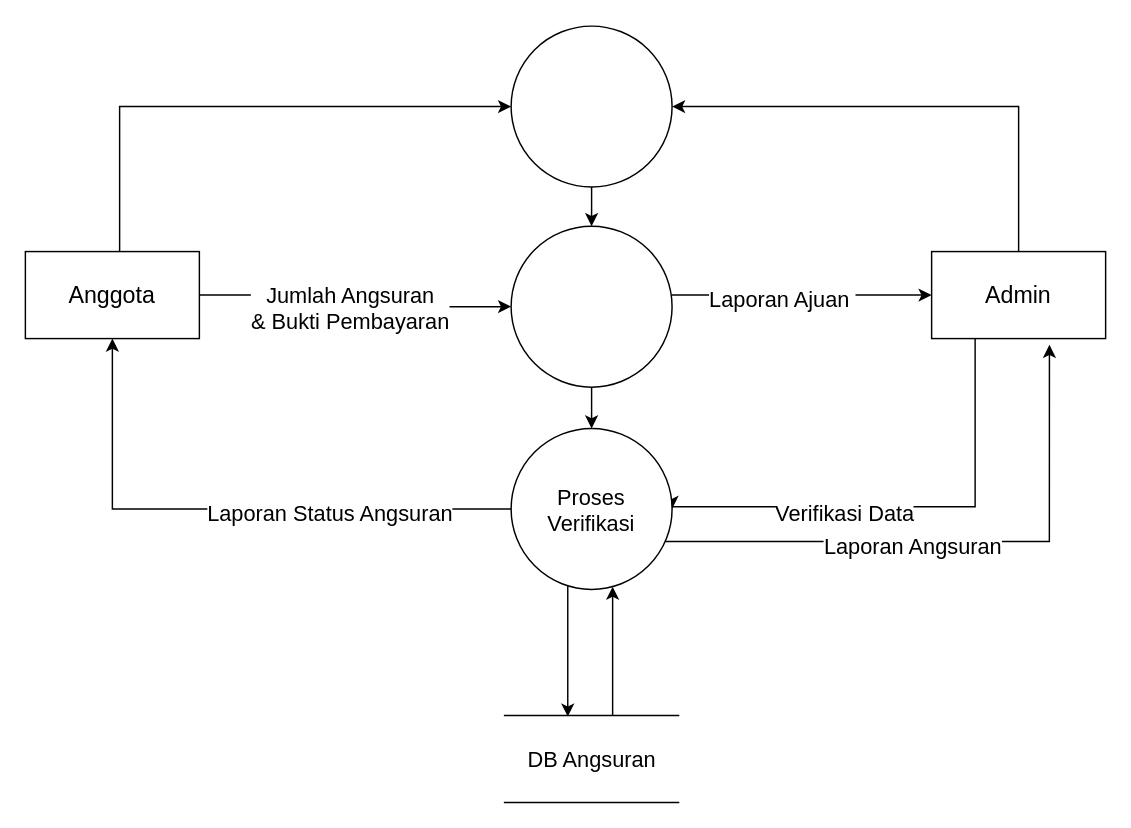
Image size: 1131x828. Some labels were removed from this diagram. The centre of each missing label's shape, as x and y in pixels:
"Proses Login" belongs at (591,106).
"Proses Pengajuan Angsuran" belongs at (591,306).
